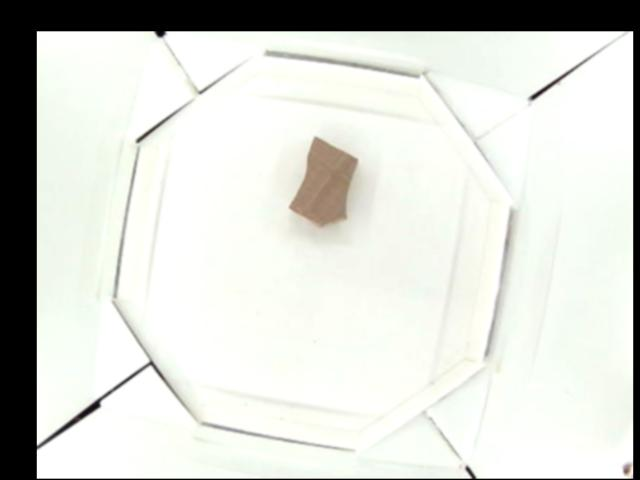China: (287, 135, 358, 226)
